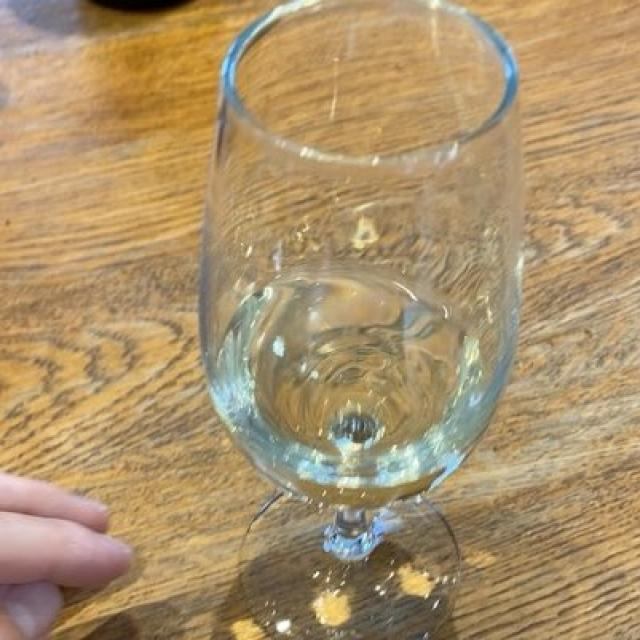wine-white: (222, 264, 500, 500)
